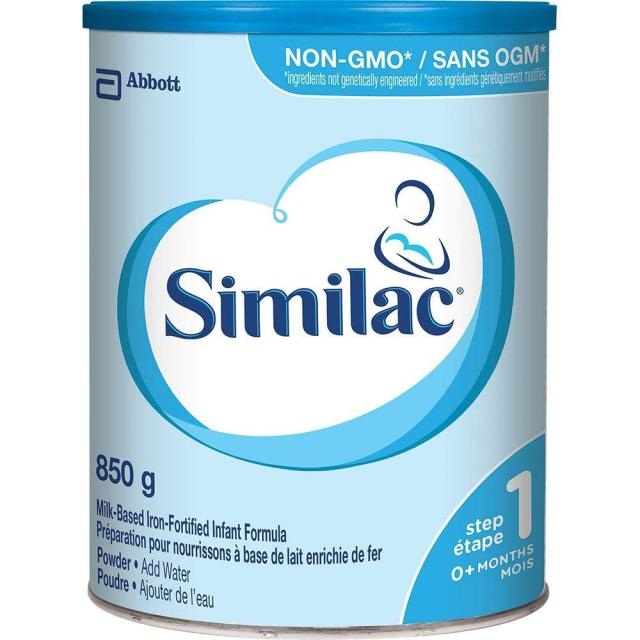formula-milk: (96, 26, 546, 600)
